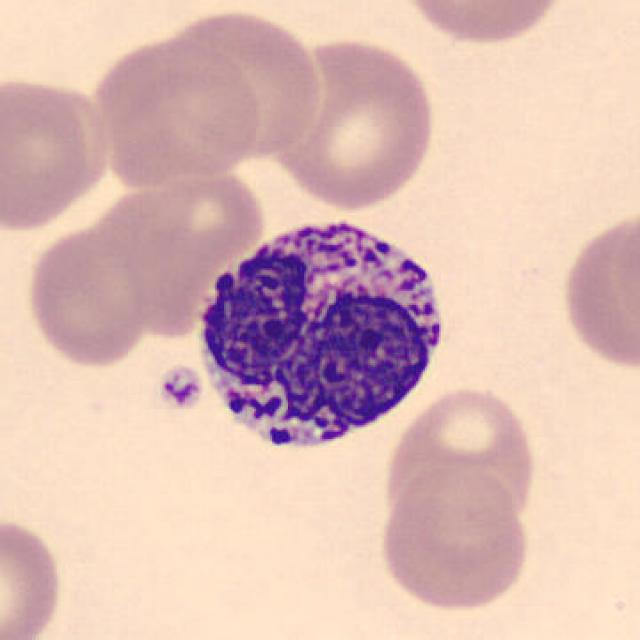Basophil: (185, 203, 457, 469)
Platelets: (154, 367, 204, 414)
RBC: (268, 34, 441, 214), (85, 30, 263, 189), (160, 3, 325, 165), (375, 466, 535, 616), (378, 383, 540, 527), (22, 220, 156, 370), (0, 70, 116, 234), (556, 204, 638, 376), (389, 0, 574, 49), (0, 513, 68, 640), (608, 203, 640, 368)
